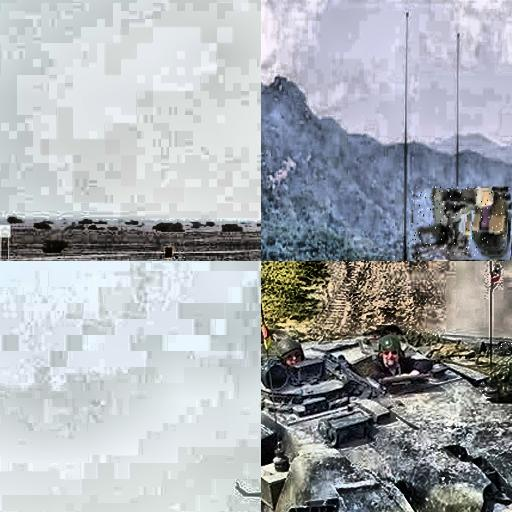tanks: (262, 335, 512, 512), (413, 188, 510, 257), (501, 344, 512, 352), (508, 257, 512, 261)
